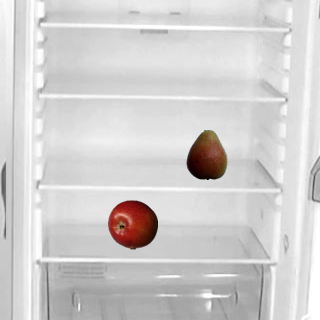Apple Braeburn: (107, 199, 157, 249)
Pear Forelle: (181, 129, 231, 179)
